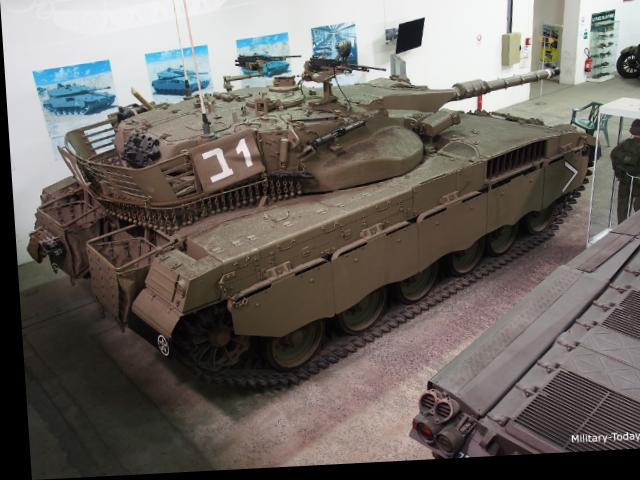tank: (26, 50, 587, 366)
